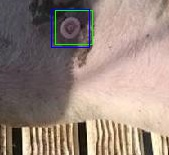text: (55, 10, 92, 44)
